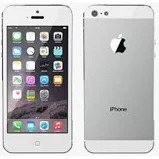iphone: (81, 4, 157, 156), (1, 3, 75, 155)
iphone6: (83, 3, 159, 155), (1, 3, 75, 156)
